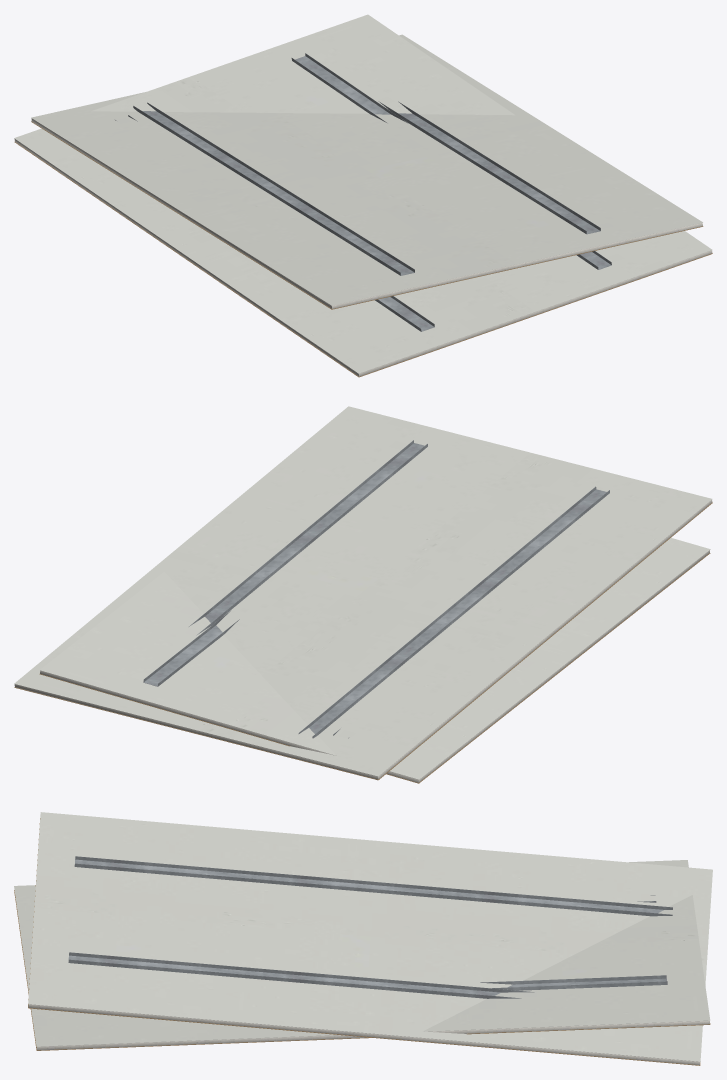
Rendered from REV-FOR-001_anim.glb.
3 views of the same model, one above another, from view 1: azimuth 30°, elevation 25°; view 2: azimuth 150°, elevation 25°; view 3: azimuth 270°, elevation 25° (orthographic). The views are drawn at different scales.
Parts seen in each view (by area): view 1: REV-FOR-001_anim1, REV-FOR-001_anim0; view 2: REV-FOR-001_anim1, REV-FOR-001_anim0; view 3: REV-FOR-001_anim1, REV-FOR-001_anim0.
Boxes of the visible parts, x1,y1,x2,y2 form: REV-FOR-001_anim1: (31,34,703,309); REV-FOR-001_anim0: (14,14,712,377); REV-FOR-001_anim1: (14,406,712,780); REV-FOR-001_anim0: (39,538,710,783); REV-FOR-001_anim1: (28,812,712,1065); REV-FOR-001_anim0: (14,860,710,1050).
Size of the model in its own units: 1.29 by 0.2083 by 1.86.
4 materials, 4 textured.
